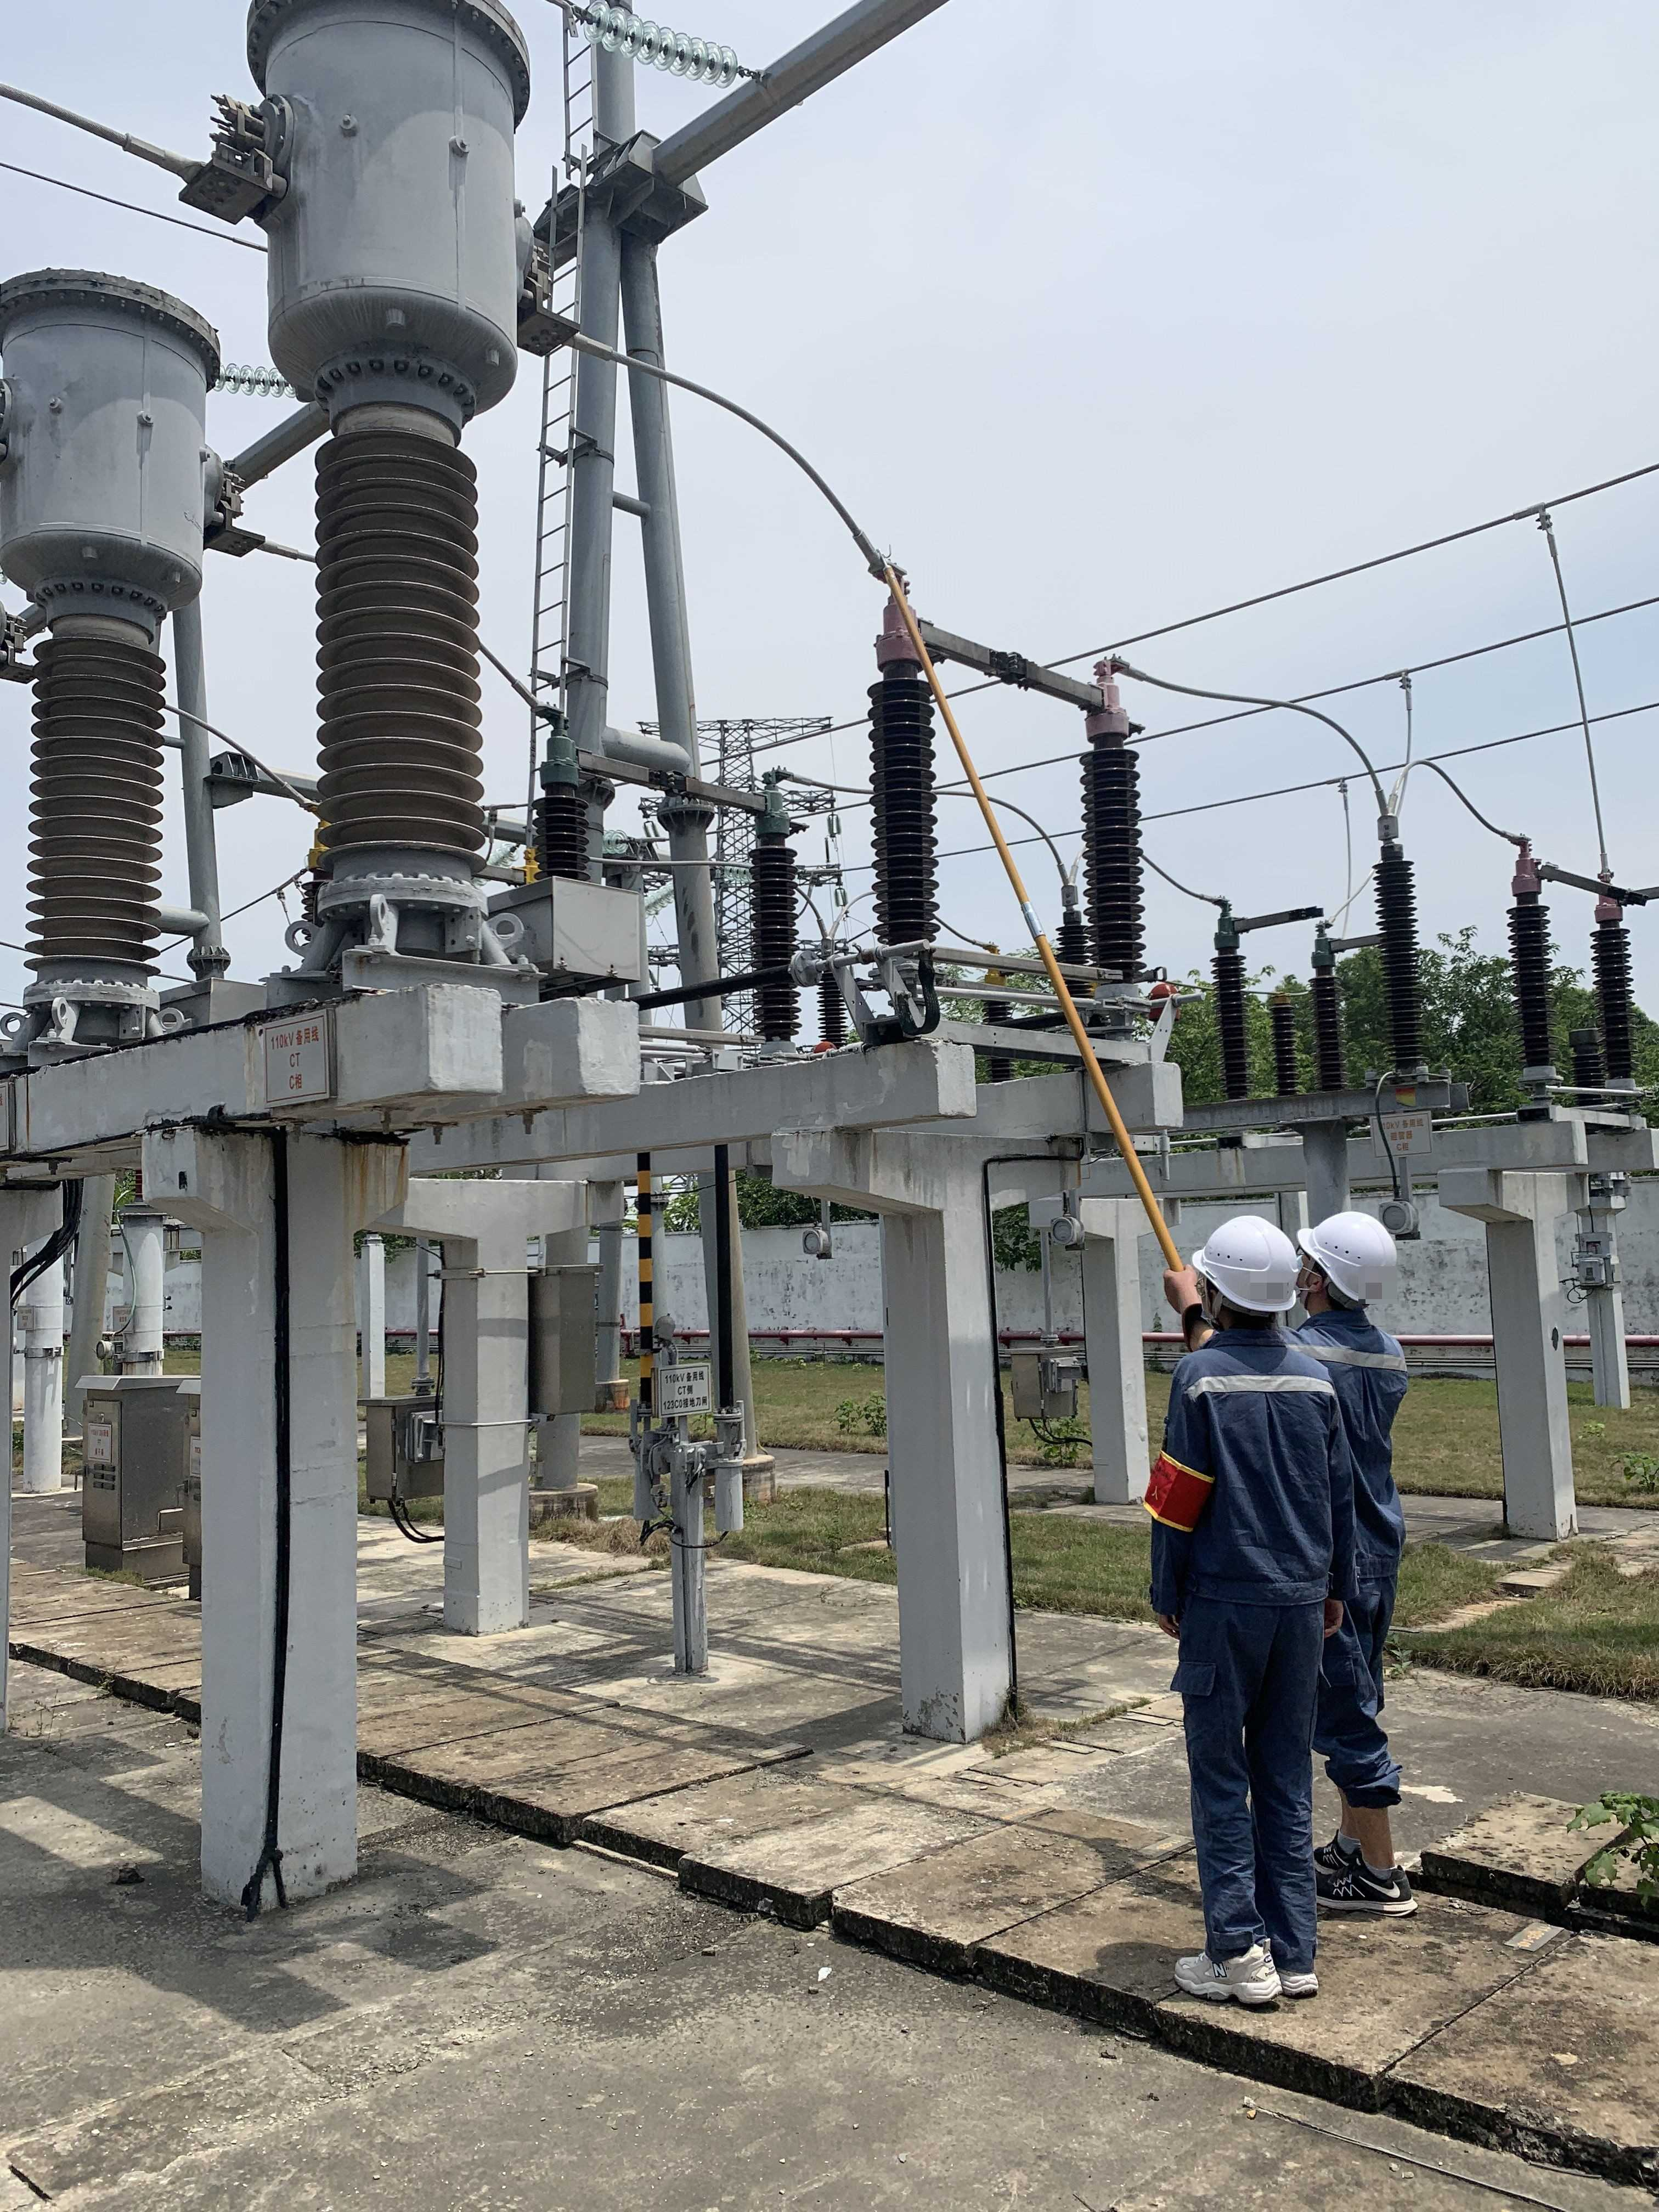downsuit: (1169, 1627, 1410, 1959)
upsuit: (1143, 1324, 1420, 1615)
wrongbottom: (1345, 1752, 1405, 1876)
